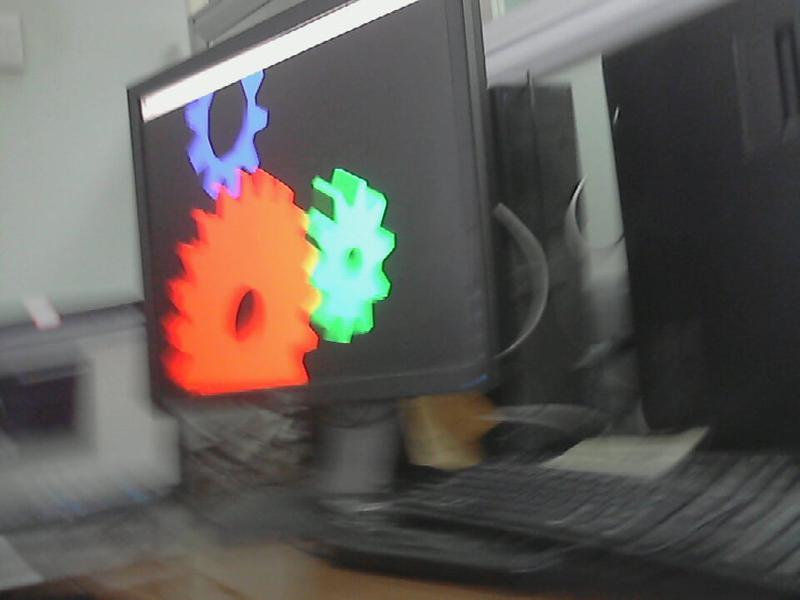glxgears_pass: (132, 54, 401, 400)
